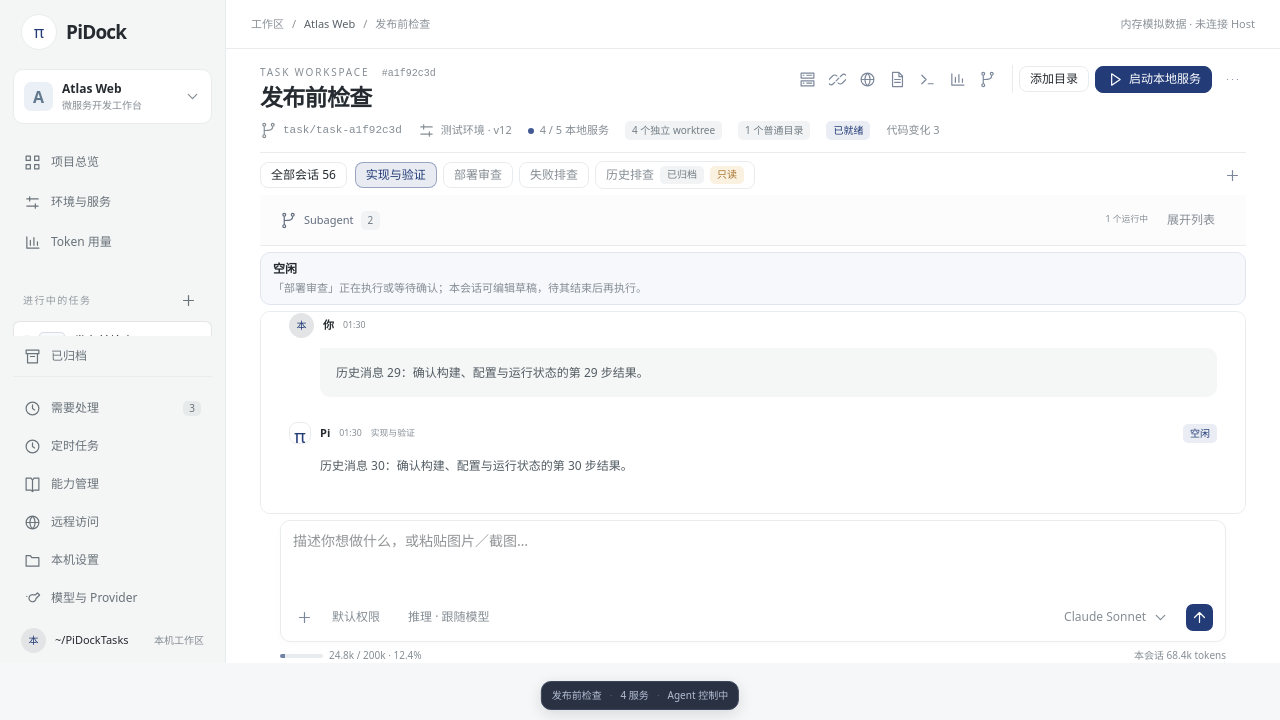
Scenario: #15 terminal panel on the real channel › plans and starts the real terminal for the task root as a labelled human action
The image size is (1280, 720).
(page scrolled)
Expected: the heading "发布前检查" is shown, [260,81,372,113]
Click the button named "终端" at (928, 79), box [914,65,942,93]
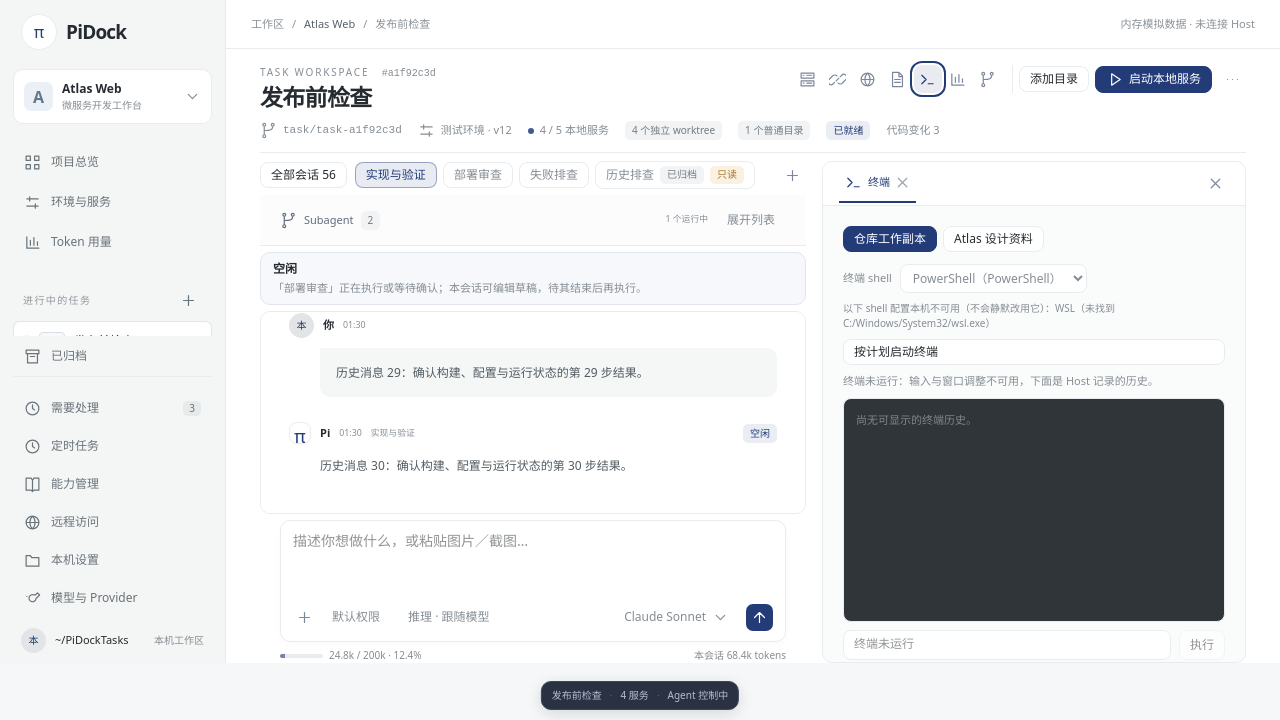
Click the button "按计划启动终端" at (896, 352), box [843,339,1225,365]
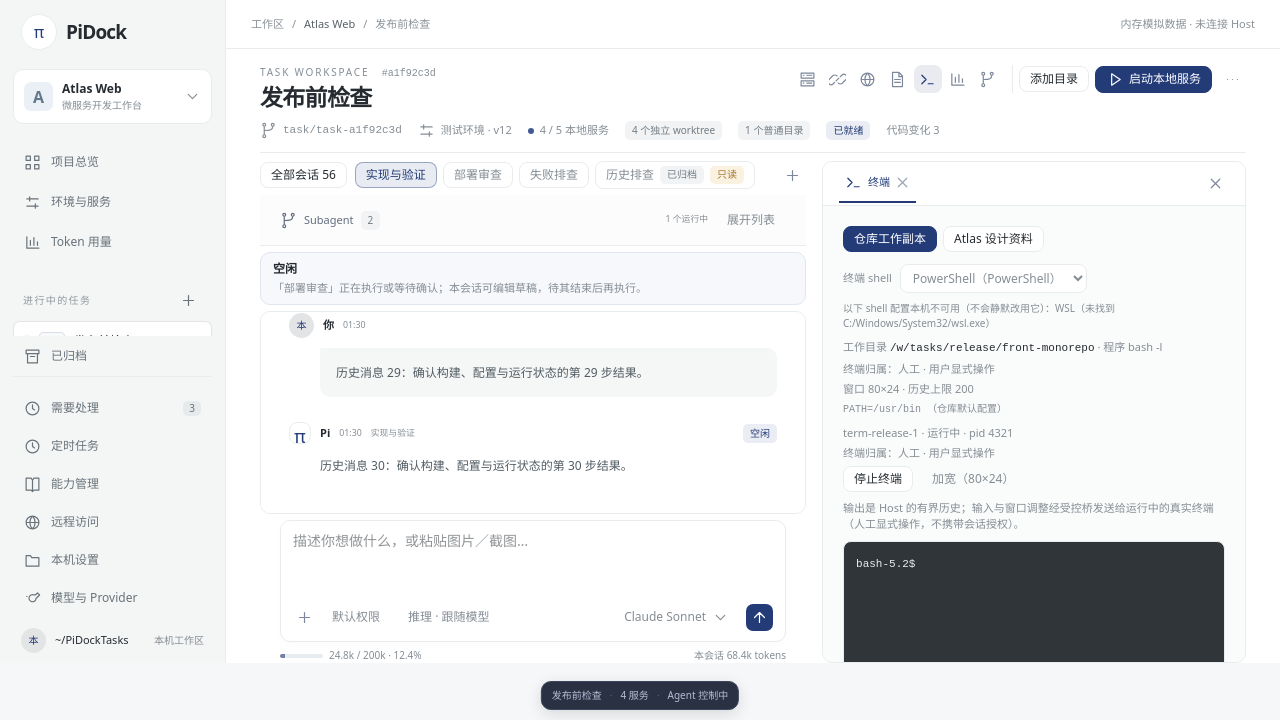
Expected: the element with test id "terminal-plan" shows "/w/tasks/release/front-monorepo", [890,342,1094,354]
Expected: the element with test id "terminal-plan" shows "用户显式操作", [898,360,995,376]
Expected: the element with test id "terminal-instance" shows "运行中", [927,424,1013,440]
